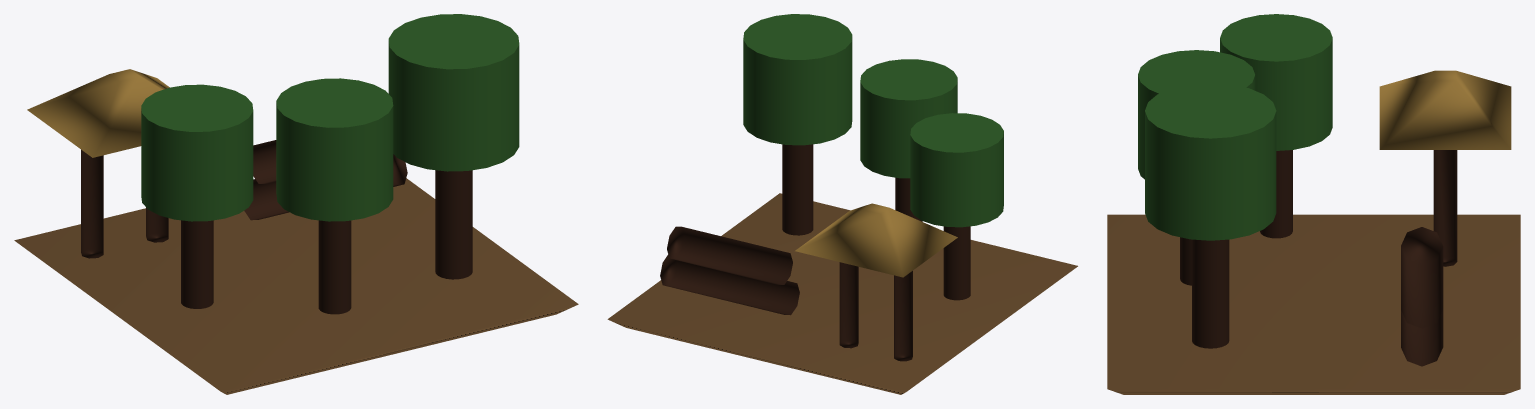
The model's file is R48_HAN_LUOYANG_FORESTRY_PRODUCTION_A.fbx.
3 renders of one model, left to right at view 1: azimuth 30°, elevation 25°; view 2: azimuth 150°, elevation 25°; view 3: azimuth 270°, elevation 25°, orthographic. The views are drawn at different scales.
Visible parts, largest first — view 1: ground, crown_nw, crown_ne, crown_e, shelter_roof, trunk_nw, trunk_ne, trunk_e, shelter_post_e, logs_a, logs_b, shelter_post_w; view 2: ground, crown_nw, crown_e, crown_ne, shelter_roof, logs_b, logs_a, trunk_nw, trunk_e, shelter_post_w, shelter_post_e, trunk_ne; view 3: ground, crown_nw, crown_e, shelter_roof, crown_ne, trunk_nw, logs_b, shelter_post_w, trunk_e, logs_a, trunk_ne.
Boxes of the visible parts, x1,y1,x2,y2 form: ground: (14,178,578,394); crown_nw: (388,14,519,171); crown_ne: (276,78,393,221); crown_e: (141,84,253,221); shelter_roof: (27,69,169,157); trunk_nw: (435,170,472,279); trunk_ne: (318,220,351,314); trunk_e: (181,220,213,308); shelter_post_e: (81,149,103,258); logs_a: (244,154,407,220); logs_b: (253,140,276,183); shelter_post_w: (146,207,168,242); ground: (607,193,1077,394); crown_nw: (743,14,852,145); crown_e: (910,113,1003,227); crown_ne: (860,59,957,178); shelter_roof: (795,203,957,277); logs_b: (667,226,792,284); logs_a: (660,254,799,315); trunk_nw: (782,144,813,235); trunk_e: (943,226,970,300); shelter_post_w: (839,262,858,348); shelter_post_e: (894,271,912,361); trunk_ne: (895,177,922,221); ground: (1107,214,1520,394); crown_nw: (1145,83,1276,240); crown_e: (1220,14,1332,150); shelter_roof: (1379,70,1511,149); crown_ne: (1138,50,1255,179); trunk_nw: (1192,239,1229,348); logs_b: (1401,227,1443,328); shelter_post_w: (1433,150,1457,266); trunk_e: (1260,150,1292,238); logs_a: (1401,309,1443,366); trunk_ne: (1180,237,1191,285).
Bounding box in the file's own units: 88 × 60 × 88.
